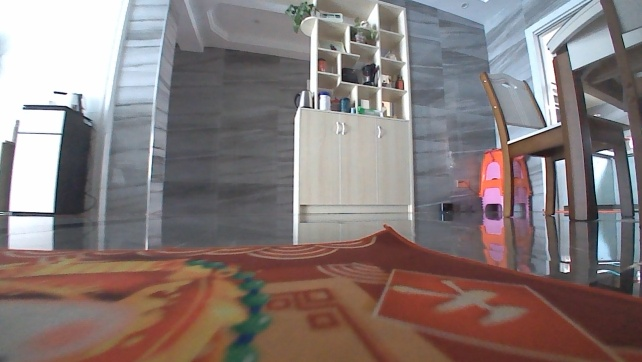blanket: (0, 220, 640, 361)
dining_table1: (474, 0, 641, 225)
